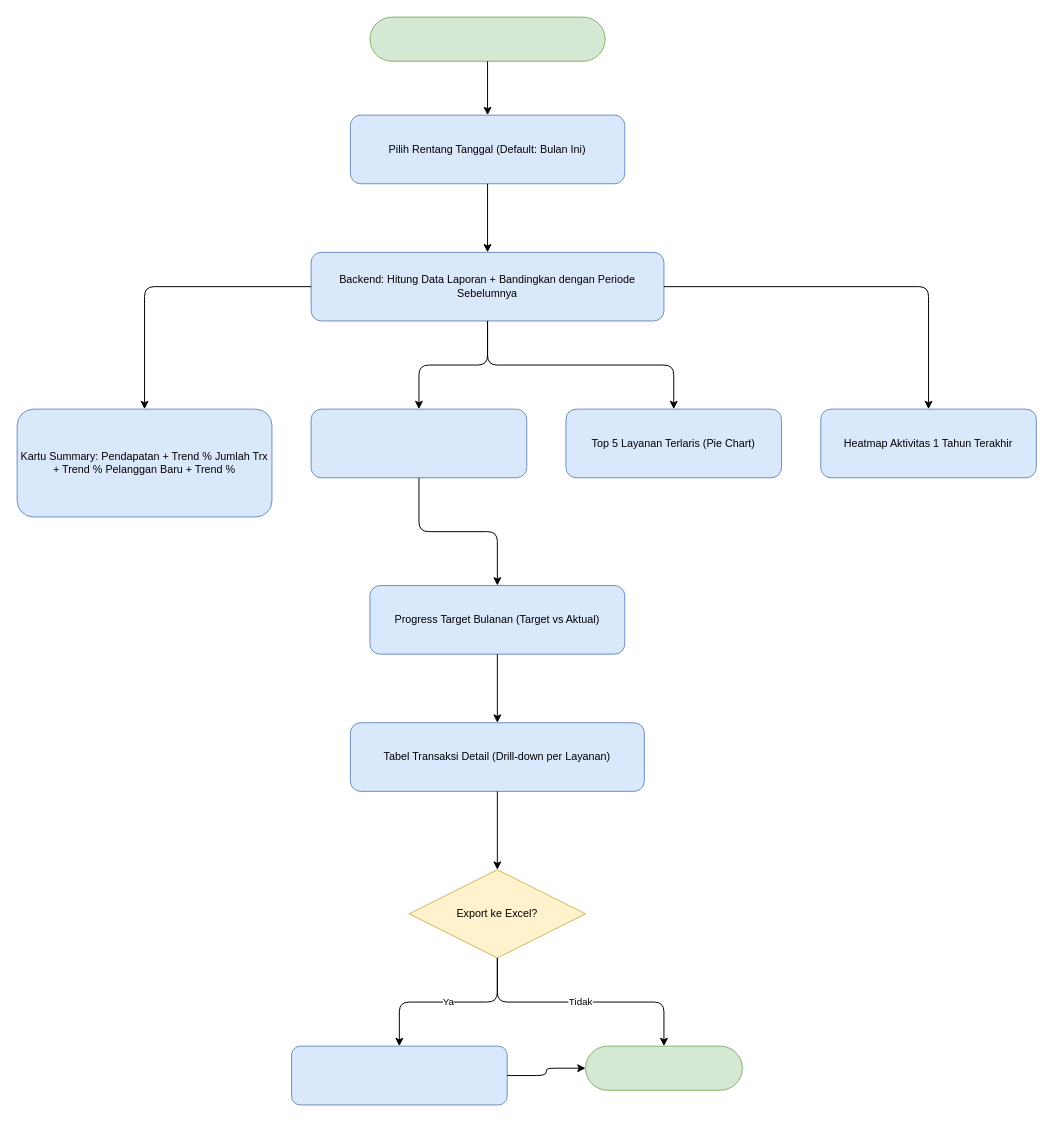
This 1054x1122 diagram has some shape labels left out. Each missing label, with the box of its shape:
Download File .xlsx: (291, 1045, 507, 1105)
Grafik Pendapatan Harian: (310, 408, 527, 478)
Modul Laporan: (369, 16, 605, 61)
Selesai: (585, 1045, 742, 1090)
